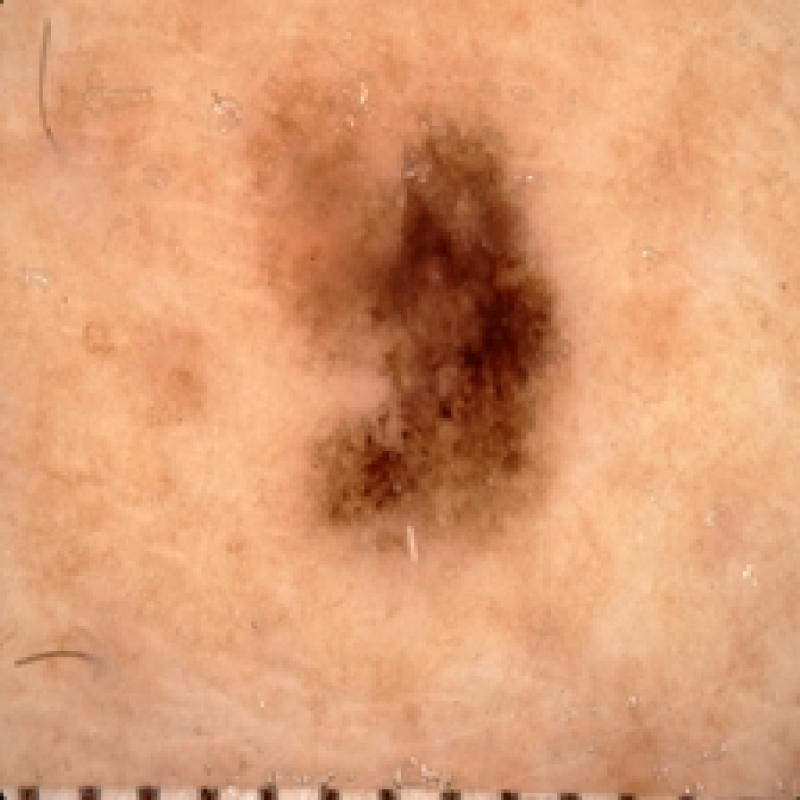malignant: (248, 88, 618, 570)
